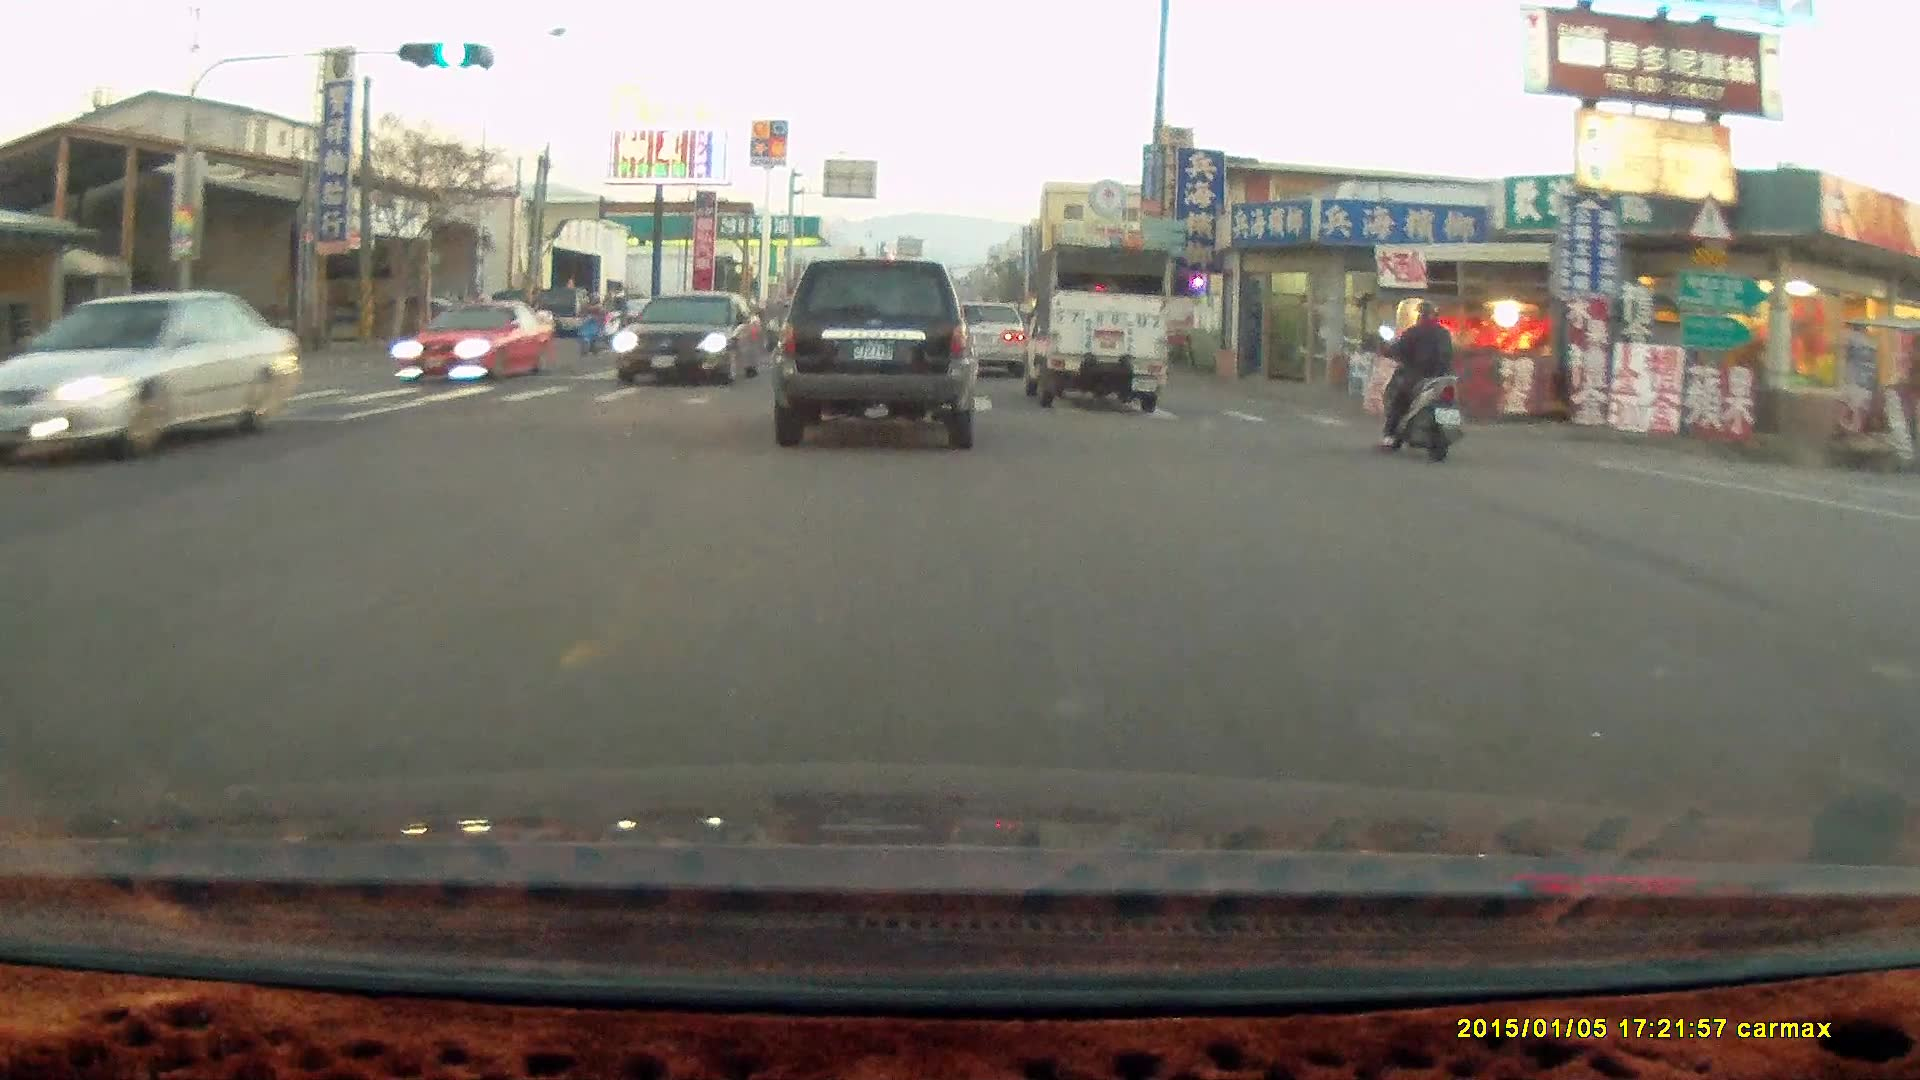rider: (1374, 280, 1463, 444), (572, 290, 609, 350), (601, 287, 638, 344)
vehicle: (1, 286, 309, 461), (769, 257, 982, 451), (1016, 242, 1171, 413), (612, 290, 767, 390), (391, 299, 556, 384), (63, 286, 235, 355), (941, 298, 1028, 378), (944, 301, 1030, 380)
